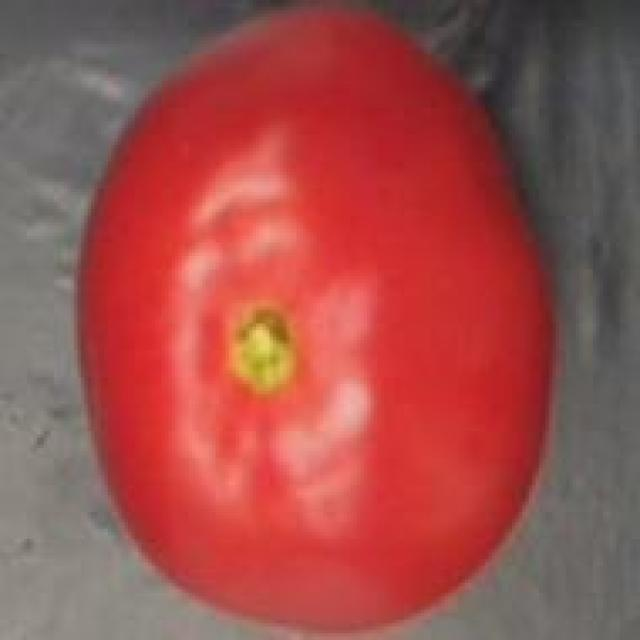ripe tomato: (64, 0, 556, 640)
